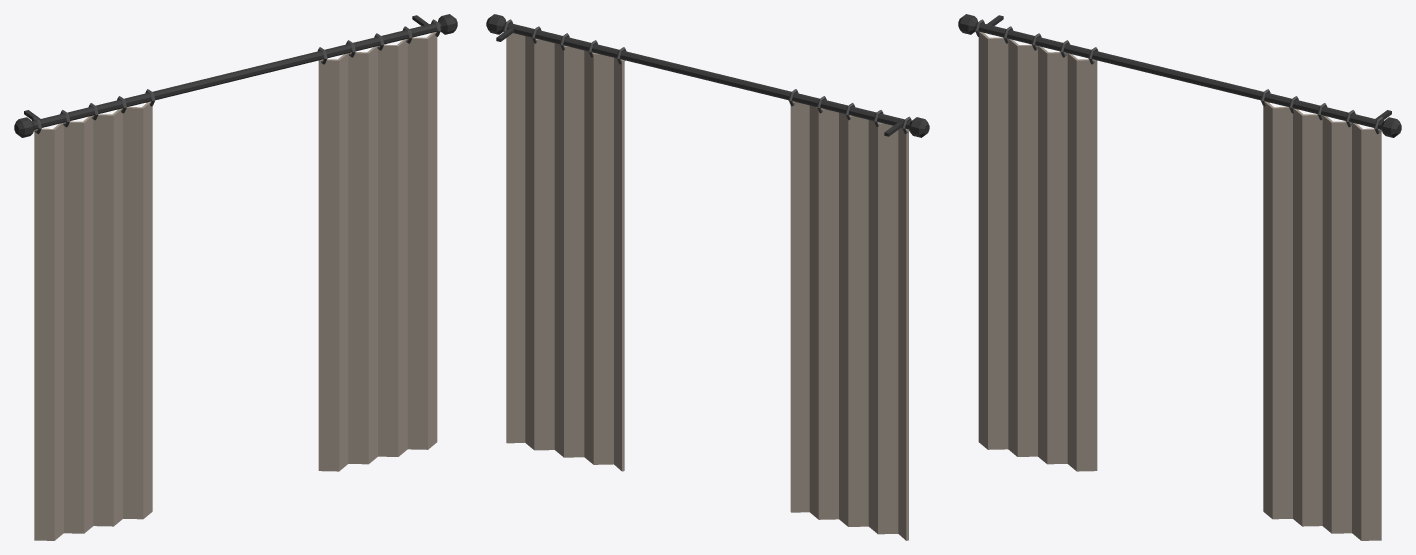
The model's file is Curtains2_C2.fbx.
3 renders of one model, left to right at view 1: azimuth 30°, elevation 25°; view 2: azimuth 150°, elevation 25°; view 3: azimuth 330°, elevation 25°, orthographic.
Parts seen in each view (by area): view 1: Curtains2_C2; view 2: Curtains2_C2; view 3: Curtains2_C2.
Boxes of the visible parts, x1,y1,x2,y2 form: Curtains2_C2: (14,14,457,540); Curtains2_C2: (486,14,929,540); Curtains2_C2: (958,14,1401,540).
Bounding box in the file's own units: 162 × 150 × 13.37.
